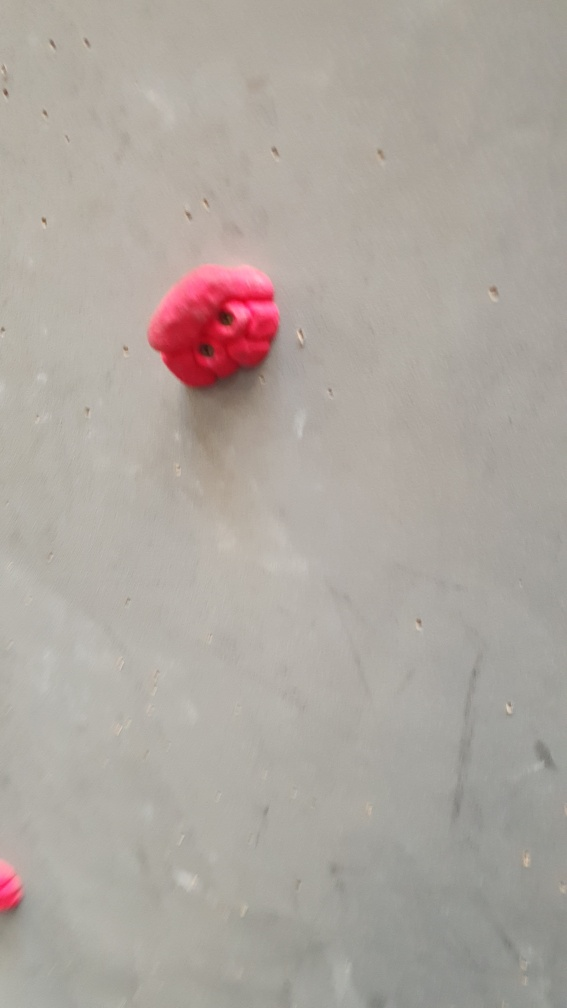Jug: (147, 256, 286, 393)
